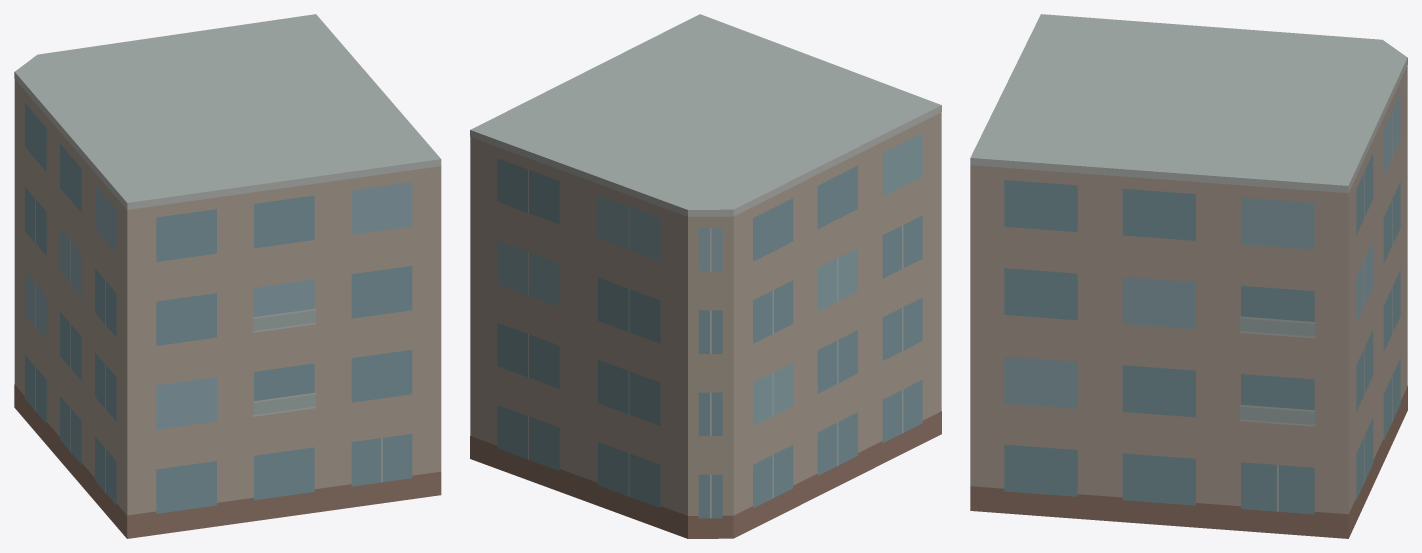
The model's file is survey-upis-32907636.glb.
The picture shows the model from 3 angles, left to right: view 1: azimuth 30°, elevation 25°; view 2: azimuth 150°, elevation 25°; view 3: azimuth 270°, elevation 25°; orthographic projection. The views are drawn at different scales.
Visible parts, largest first — view 1: survey-upis-32907636.tmp; view 2: survey-upis-32907636.tmp; view 3: survey-upis-32907636.tmp.
Boxes of the visible parts, box(x1,y1,x2,y2) form: survey-upis-32907636.tmp: box(14, 14, 441, 538); survey-upis-32907636.tmp: box(470, 14, 941, 538); survey-upis-32907636.tmp: box(970, 14, 1407, 538).
Bounding box in the file's own units: 12.23 × 11.7 × 13.15.
